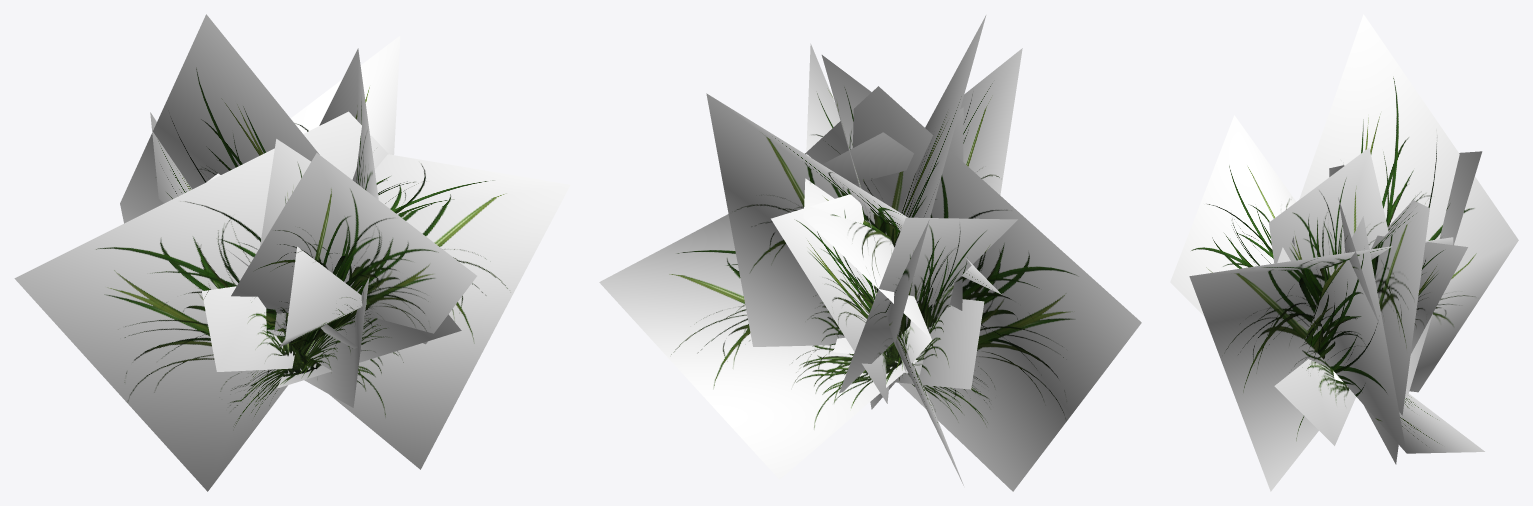
File: Grass_33.fbx
3 views of the same model, side by side, from view 1: azimuth 30°, elevation 25°; view 2: azimuth 150°, elevation 25°; view 3: azimuth 270°, elevation 25° (orthographic). The views are drawn at different scales.
Parts seen in each view (by area): view 1: Grass_33; view 2: Grass_33; view 3: Grass_33.
Part boxes in pixels (bbox=[...]): Grass_33: bbox=[14, 14, 570, 491]; Grass_33: bbox=[599, 15, 1141, 491]; Grass_33: bbox=[1170, 14, 1518, 491].
Size of the model in its own units: 5637 by 4840 by 3692.
